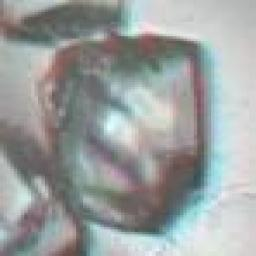crystals: (39, 30, 211, 239)
